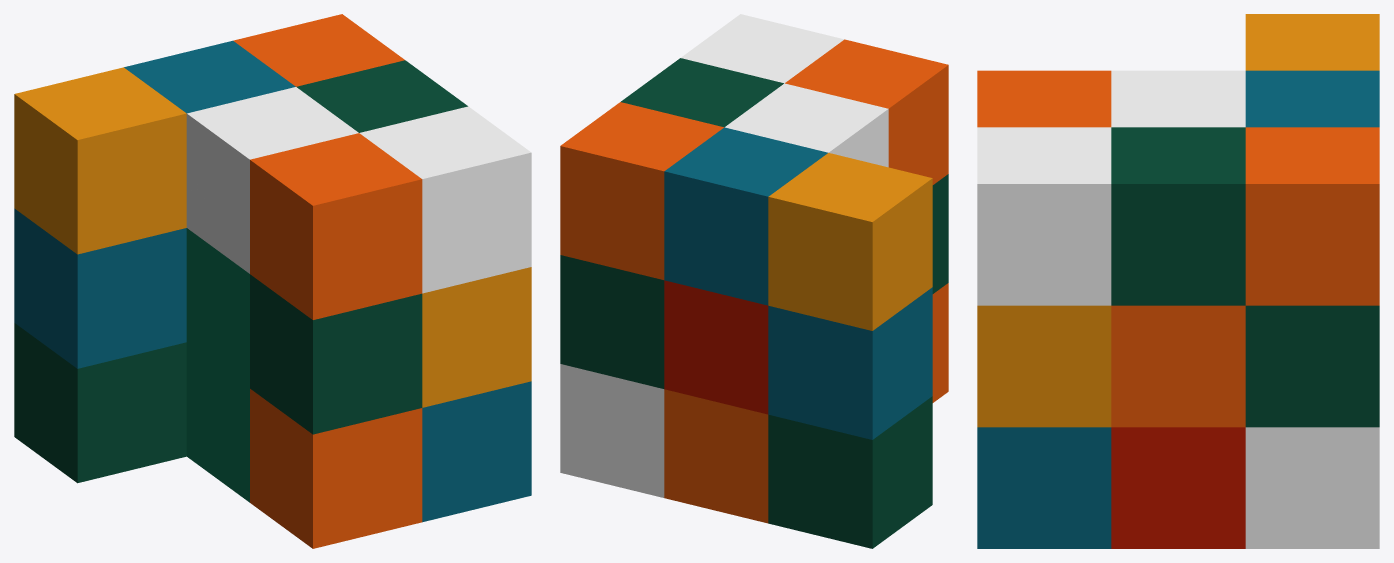
File: RubixCube2.obj
3 views of the same model, side by side, from view 1: azimuth 30°, elevation 25°; view 2: azimuth 150°, elevation 25°; view 3: azimuth 270°, elevation 25° (orthographic). The views are drawn at different scales.
Parts seen in each view (by area): view 1: RubixCube2; view 2: RubixCube2; view 3: RubixCube2.
Part boxes in pixels (box(x1,y1,x2,y2)): RubixCube2: box(14, 14, 531, 548); RubixCube2: box(560, 14, 948, 548); RubixCube2: box(977, 14, 1379, 548).
Bounding box in the file's own units: 3 × 3 × 3.
1 material, 1 textured.
